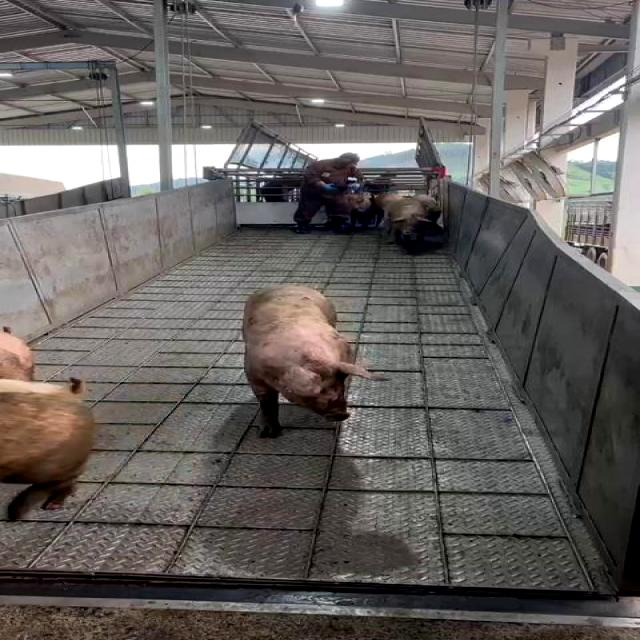pig: (243, 285, 381, 435), (1, 382, 95, 519)
